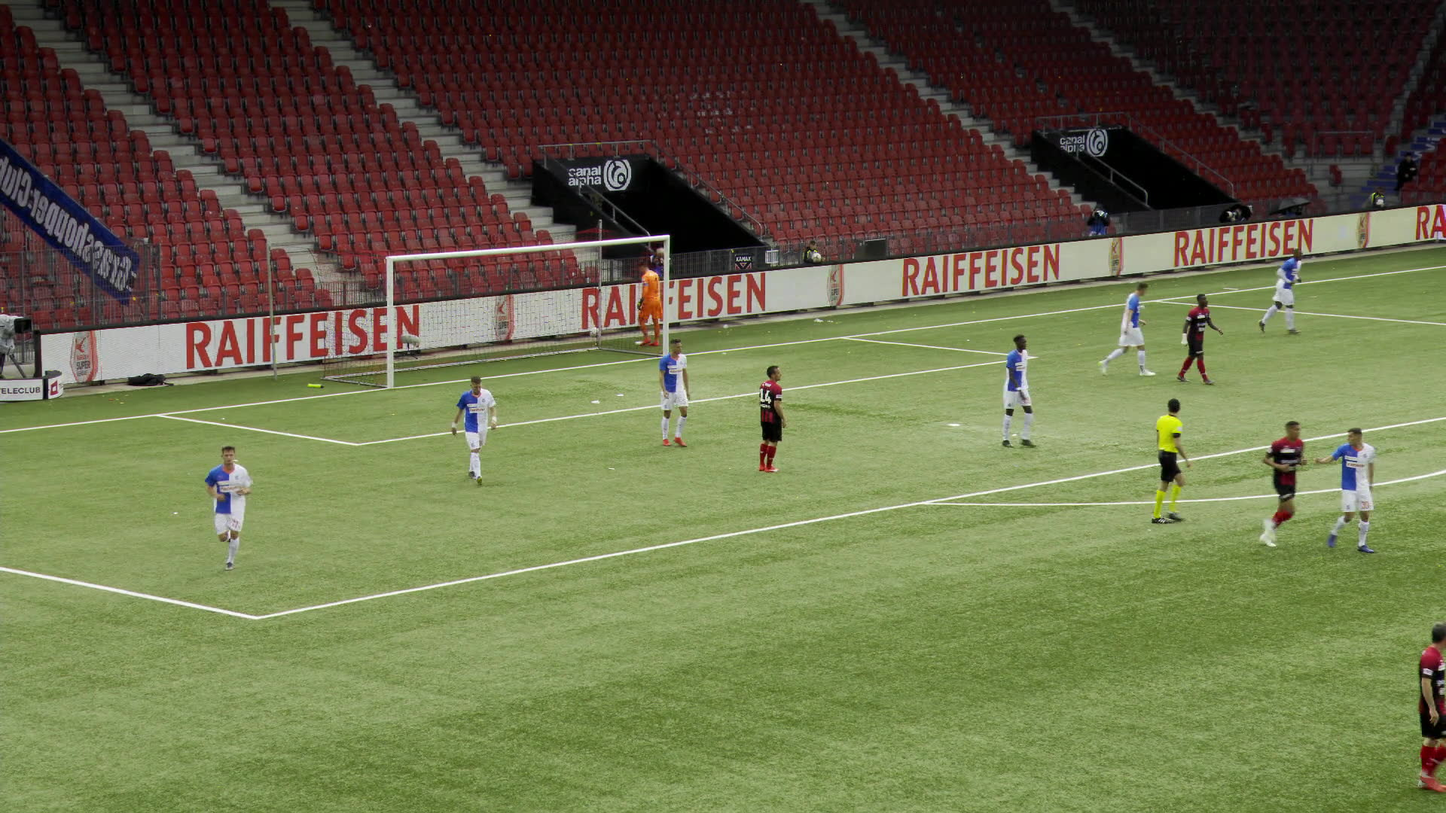ball: (589, 327, 599, 335)
player: (1391, 631, 1445, 790), (1242, 420, 1307, 551), (1316, 428, 1381, 553), (203, 439, 249, 567), (450, 373, 495, 483), (1102, 281, 1154, 375), (995, 334, 1036, 449), (654, 338, 692, 446), (1178, 292, 1219, 384), (1258, 251, 1300, 333), (629, 260, 664, 346), (758, 364, 786, 471)
referee: (1137, 398, 1188, 524)
